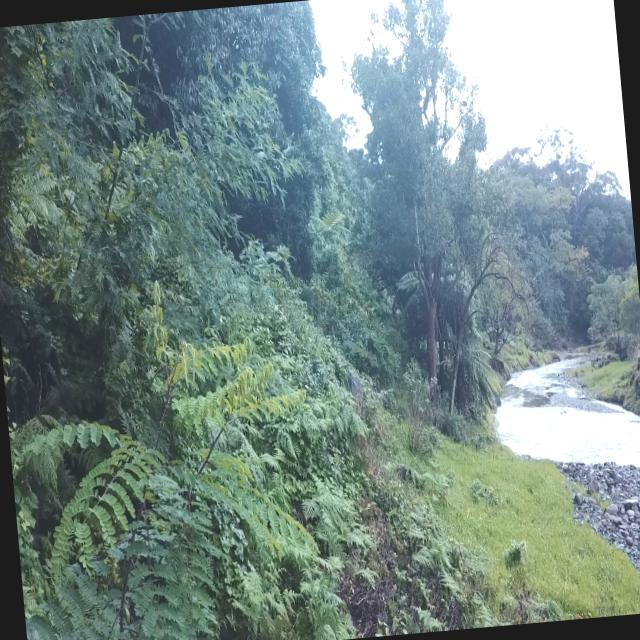Mysore-Thorn-Weed: (0, 272, 326, 640)
